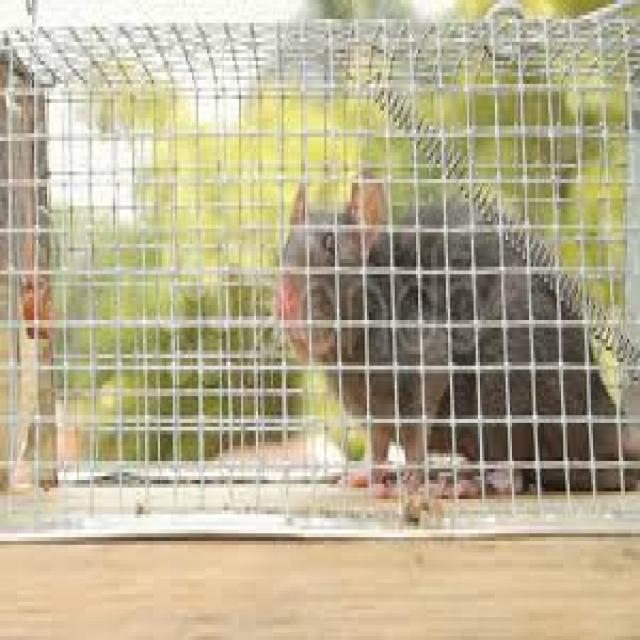rat: (271, 168, 638, 499)
